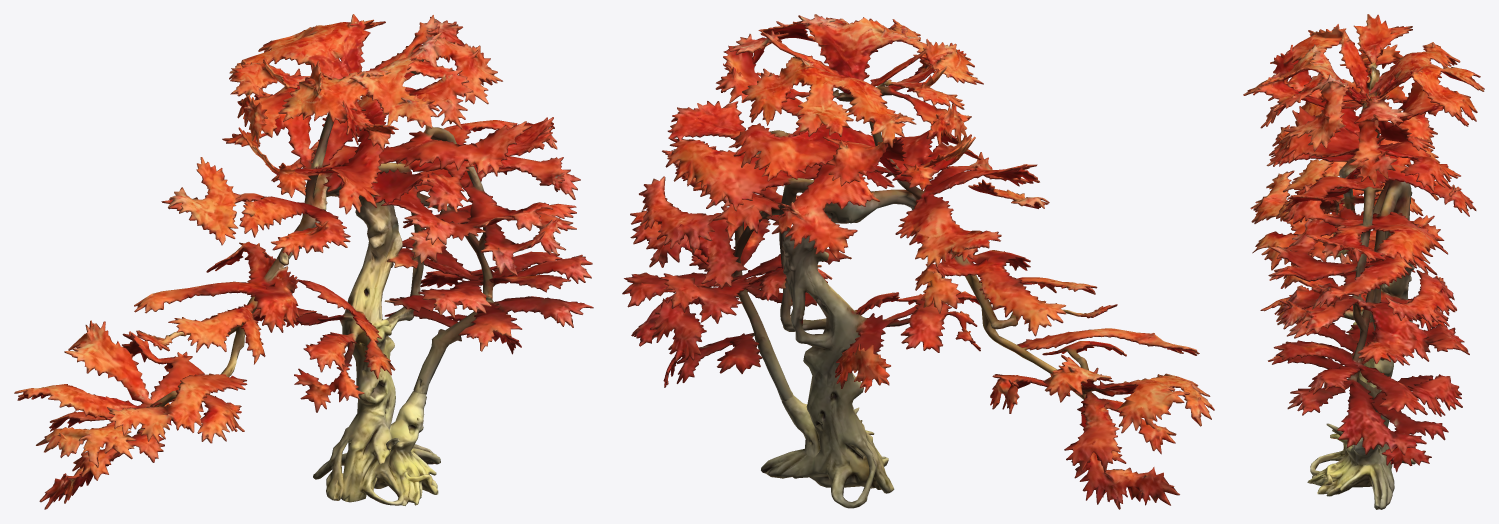
File: autumn_maple.glb
3 views of the same model, side by side, from view 1: azimuth 30°, elevation 25°; view 2: azimuth 150°, elevation 25°; view 3: azimuth 270°, elevation 25° (orthographic). The views are drawn at different scales.
Visible parts, largest first — view 1: tripo_node_5a4b5e7c-ac24-46c7-8955-62173f71f805; view 2: tripo_node_5a4b5e7c-ac24-46c7-8955-62173f71f805; view 3: tripo_node_5a4b5e7c-ac24-46c7-8955-62173f71f805.
Part boxes in pixels (x1,y1,x2,y2): tripo_node_5a4b5e7c-ac24-46c7-8955-62173f71f805: (14,14,593,509); tripo_node_5a4b5e7c-ac24-46c7-8955-62173f71f805: (622,14,1214,509); tripo_node_5a4b5e7c-ac24-46c7-8955-62173f71f805: (1243,14,1484,509).
Bounding box in the file's own units: 0.98 × 0.7591 × 0.3936.
Materials: 1 (1 with a texture image).
